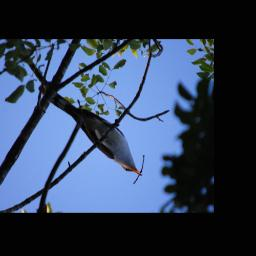Cuckoo: (50, 95, 145, 178)
